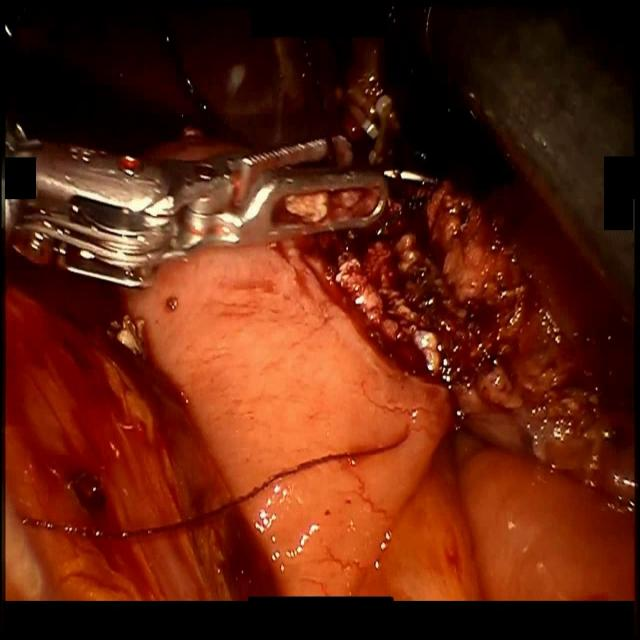surgical-area: (0, 2, 640, 603)
surgical-tool: (386, 0, 640, 321), (2, 116, 390, 292)
